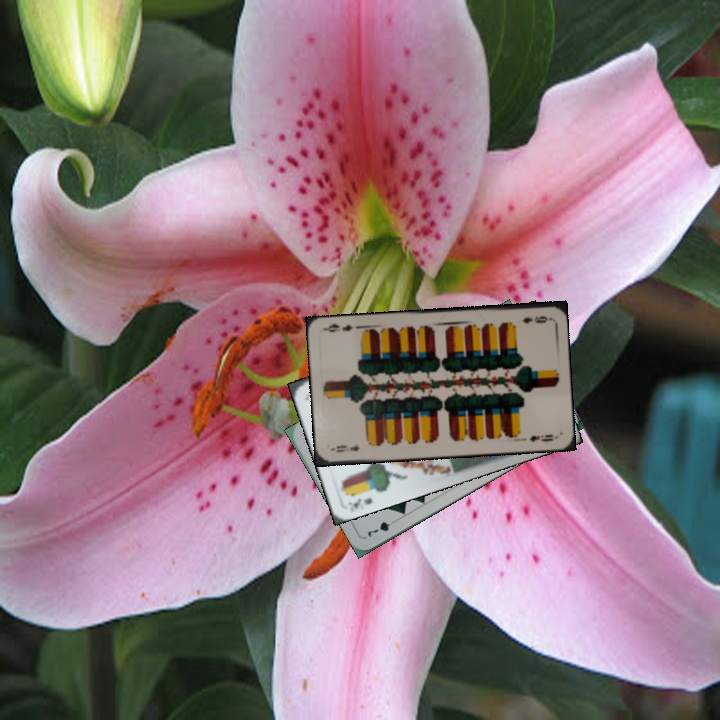E9: (329, 441, 363, 455), (519, 312, 550, 326)
EK: (344, 494, 375, 514)
G7: (363, 515, 400, 542)
